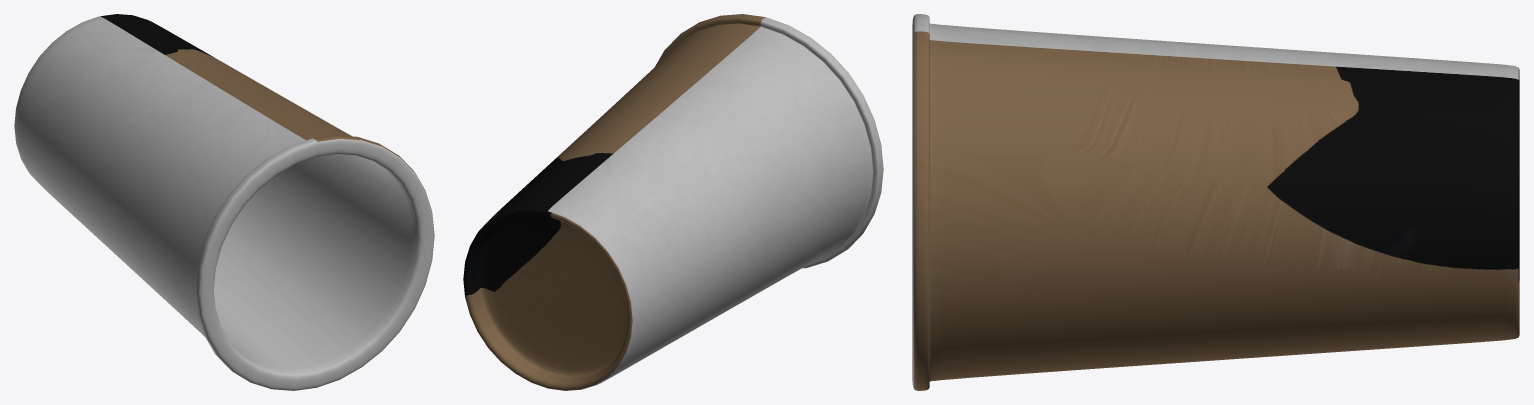
The picture shows the model from 3 angles, left to right: view 1: azimuth 30°, elevation 25°; view 2: azimuth 150°, elevation 25°; view 3: azimuth 270°, elevation 25°; orthographic projection. The views are drawn at different scales.
Bounding box in the file's own units: 0.5421 × 0.5421 × 0.8713.
